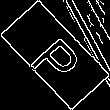P_NE: (23, 24, 87, 86)
